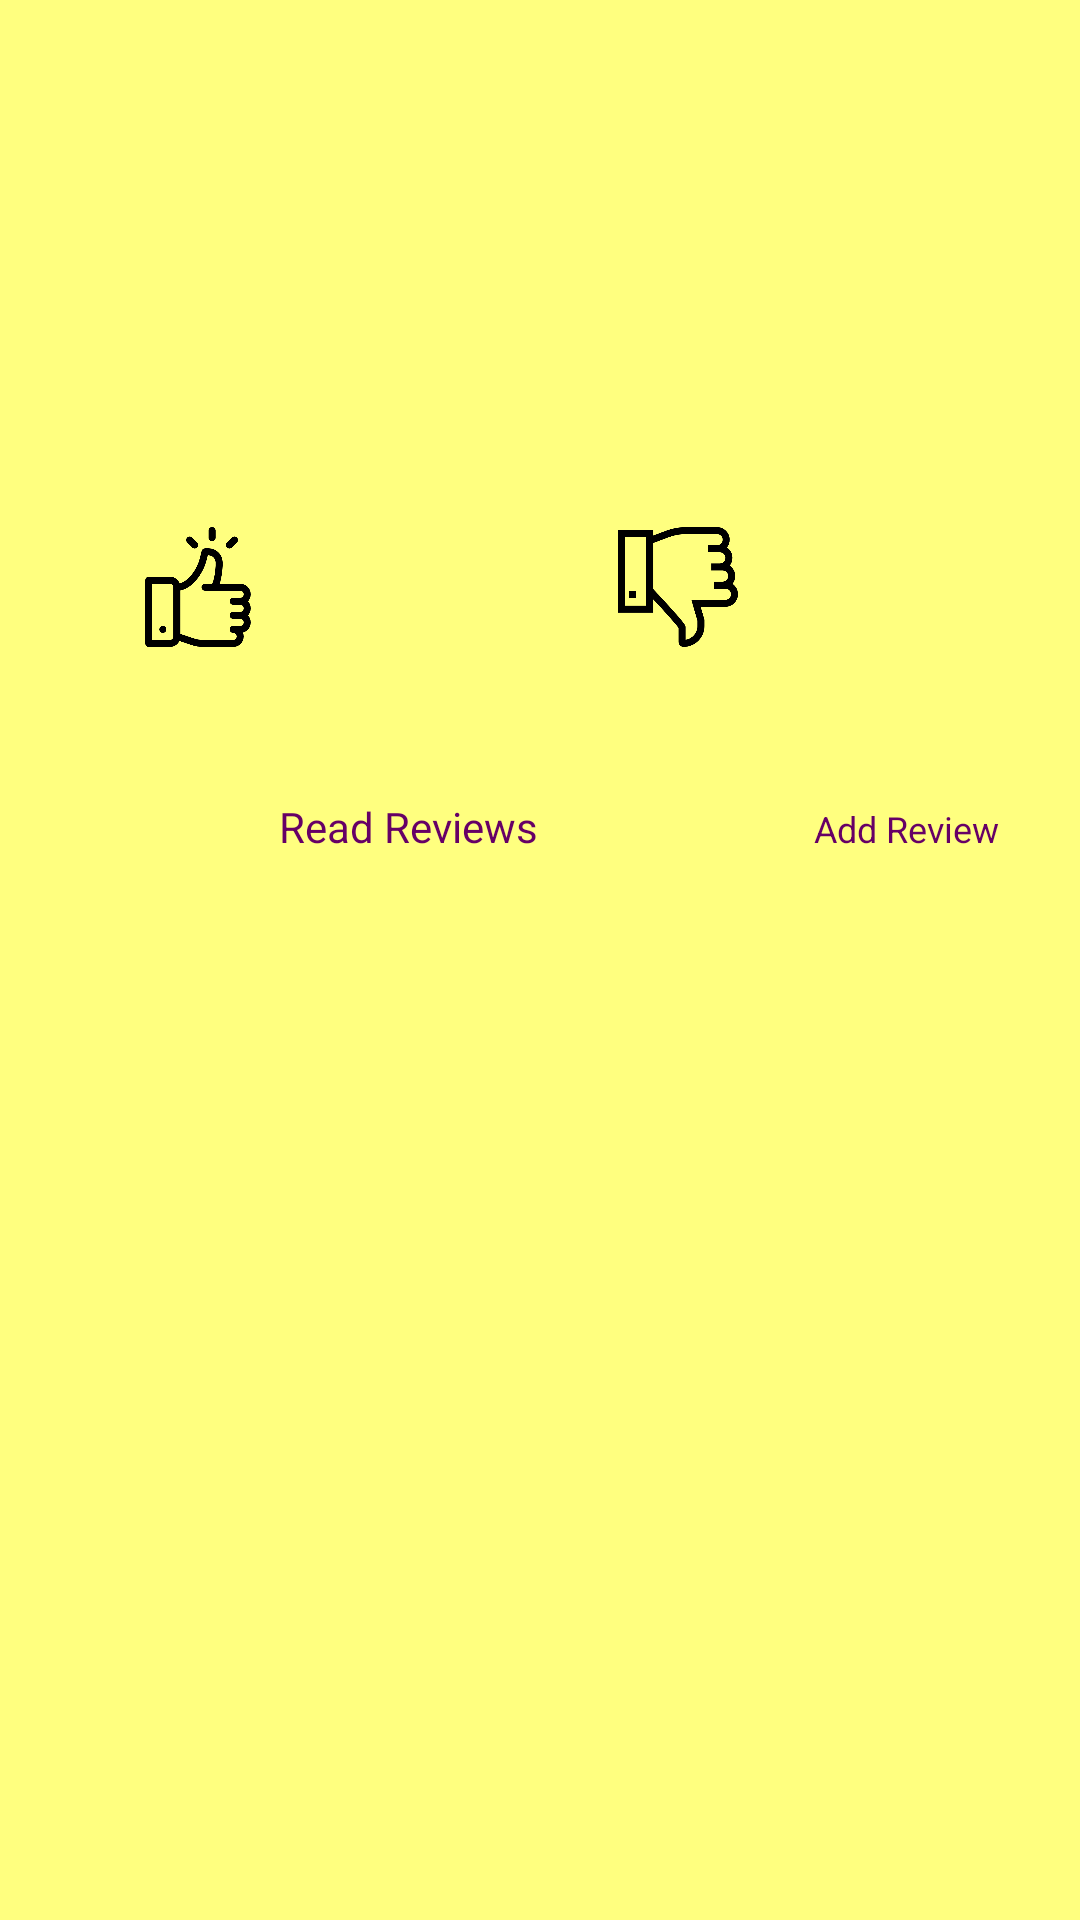

Icon click points for this 1080x1920 phone screenshot, format point (x, y):
dislike: point (678, 587)
like: point (198, 587)
